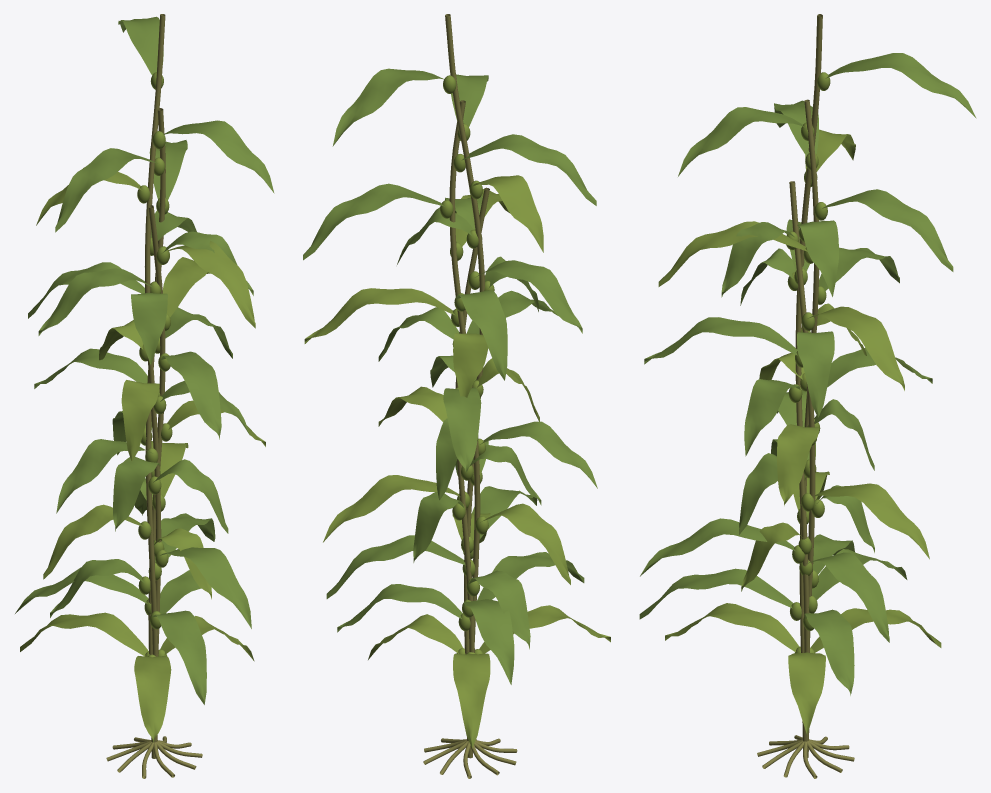
File: rooted-kelp.glb
The picture shows the model from 3 angles, left to right: view 1: azimuth 30°, elevation 25°; view 2: azimuth 150°, elevation 25°; view 3: azimuth 270°, elevation 25°; orthographic projection. The views are drawn at different scales.
Visible parts, largest first — view 1: Stipe 0, Blade 1 01, Blade 2 00, Blade 2 08, Blade 0 02, Blade 1 11, Blade 1 09, Blade 0 10, Blade 1 06, Stipe 1, Blade 2 10, Blade 0 07 (+25 smaller); view 2: Blade 1 00, Blade 2 07, Blade 1 08, Stipe 0, Blade 0 11, Blade 1 10, Blade 0 01, Stipe 1, Blade 2 09, Blade 2 10, Blade 0 03, Blade 1 11 (+21 smaller); view 3: Stipe 0, Blade 2 09, Blade 2 01, Blade 1 02, Blade 1 10, Blade 1 07, Blade 2 06, Blade 0 03, Blade 0 00, Blade 0 11, Blade 0 10, Blade 2 08 (+22 smaller).
Part boxes in pixels (x1,y1,x2,y2): Stipe 0: (144, 14, 165, 758); Blade 1 01: (152, 610, 206, 704); Blade 2 00: (134, 655, 171, 742); Blade 2 08: (161, 351, 221, 439); Blade 0 02: (160, 547, 251, 628); Blade 1 11: (55, 148, 157, 232); Blade 1 09: (168, 241, 255, 328); Blade 0 10: (163, 120, 274, 193); Blade 1 06: (121, 380, 159, 461); Stipe 1: (145, 108, 165, 758); Blade 2 10: (38, 268, 153, 335); Blade 0 07: (131, 292, 167, 365); Blade 1 00: (453, 653, 490, 748); Blade 2 07: (443, 387, 481, 472); Blade 1 08: (456, 290, 507, 380); Stipe 0: (445, 14, 484, 758); Blade 0 11: (332, 68, 447, 146); Blade 1 10: (303, 183, 444, 260); Blade 0 01: (463, 599, 514, 684); Stipe 1: (449, 100, 480, 757); Blade 2 09: (304, 288, 455, 343); Blade 2 10: (475, 260, 582, 333); Blade 0 03: (323, 475, 460, 542); Blade 1 11: (461, 134, 596, 205); Stipe 0: (795, 14, 822, 757); Blade 2 09: (807, 306, 904, 390); Blade 2 01: (804, 609, 854, 695); Blade 1 02: (806, 552, 889, 642); Blade 1 10: (822, 189, 953, 271); Blade 1 07: (797, 331, 834, 417); Blade 2 06: (777, 424, 819, 505); Blade 0 03: (813, 483, 929, 559); Blade 0 00: (788, 652, 825, 734); Blade 0 11: (825, 53, 976, 118); Blade 0 10: (678, 107, 806, 176); Blade 2 08: (644, 317, 797, 364).
Bounding box in the file's own units: 1.5 × 4.61 × 1.88.
